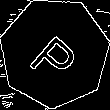P_NE: (25, 21, 84, 84)
